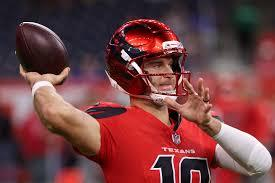americanFootball: (17, 20, 67, 85)
